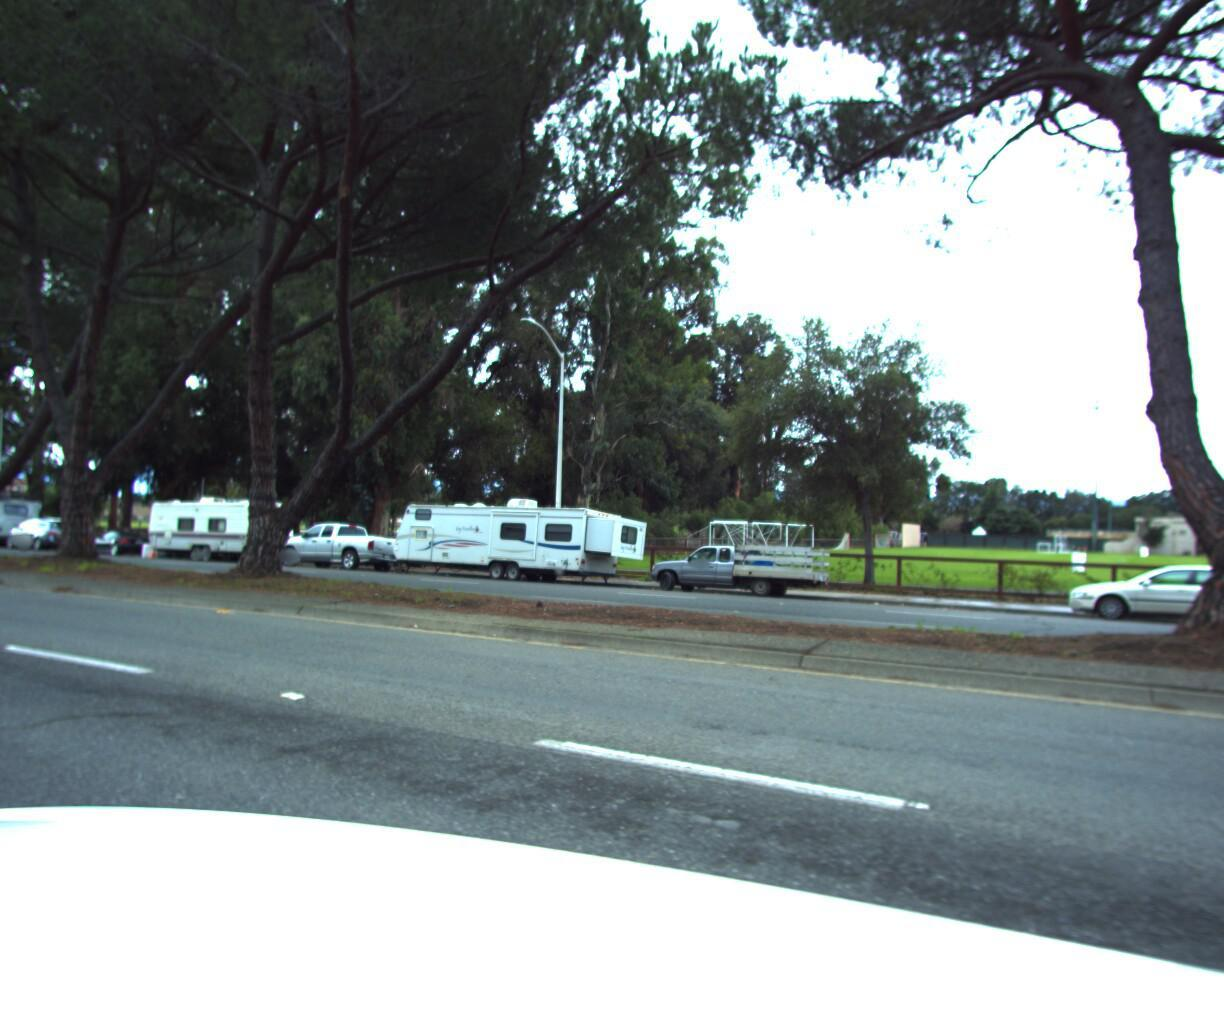car: (1061, 551, 1224, 634), (642, 533, 838, 601), (265, 514, 406, 571), (0, 511, 87, 548), (78, 523, 157, 554)
other_vehicle: (381, 487, 658, 582), (125, 491, 302, 562)
